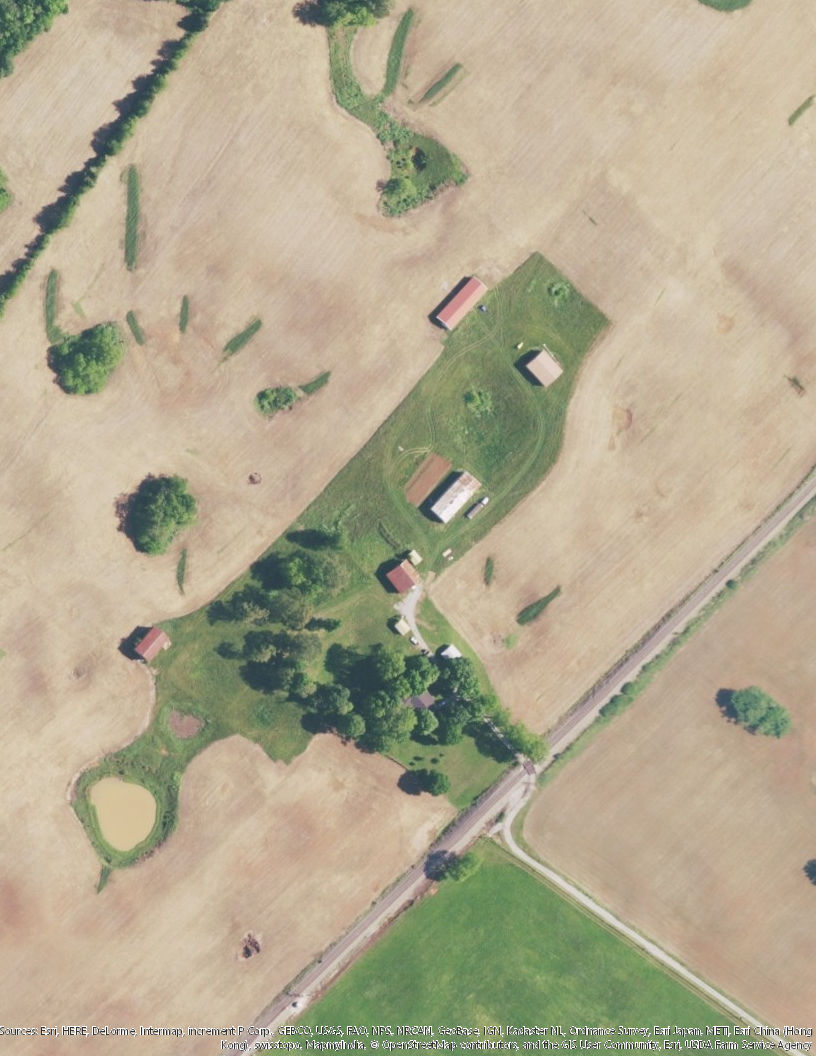cafo: (429, 464, 482, 526)
